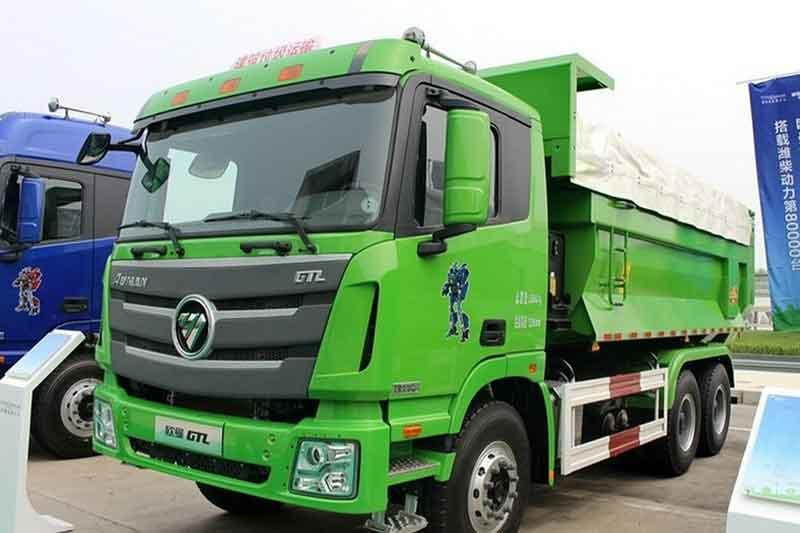truck: (92, 31, 754, 533)
